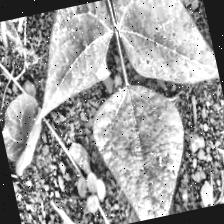ALS: (88, 81, 193, 224), (107, 0, 219, 98)
